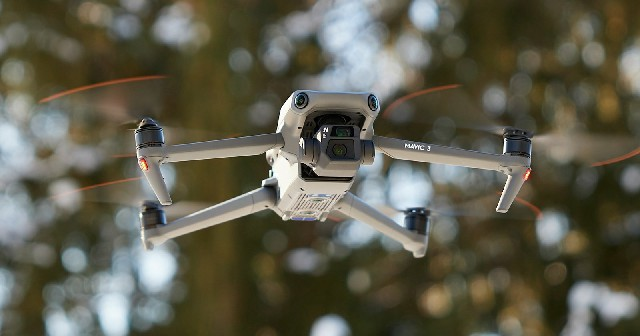maybay_khongnguoilai: (72, 86, 564, 263)
